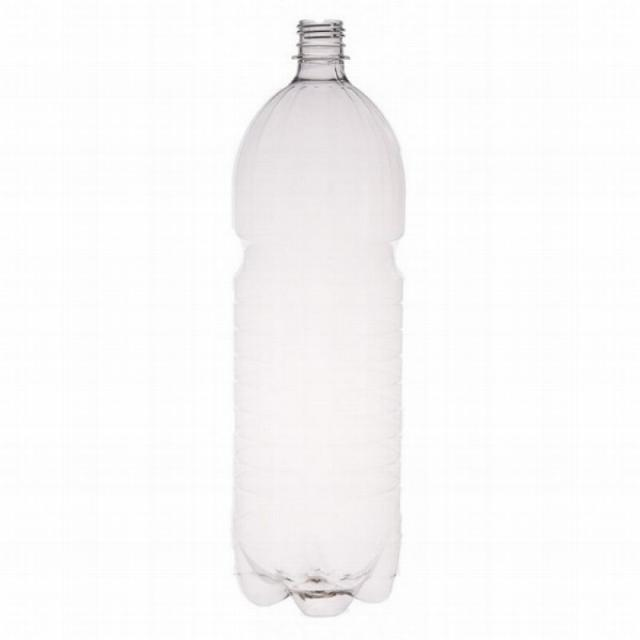bottle: (234, 21, 405, 616)
